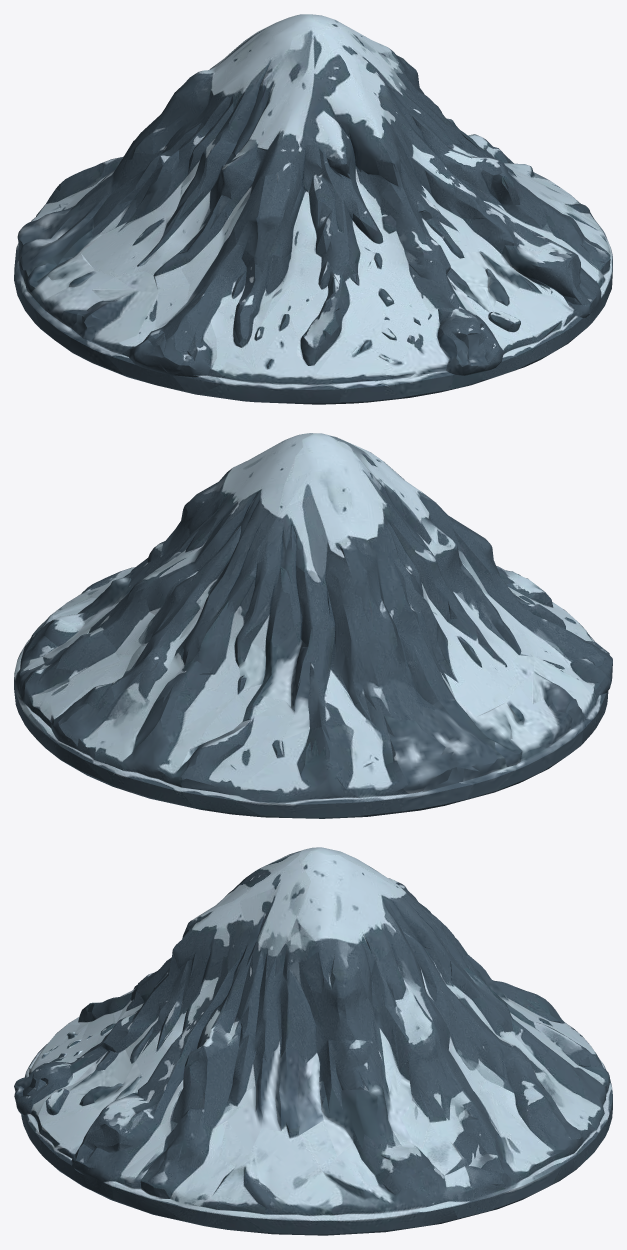
File: lm_montagna.glb
3 views of the same model, one above another, from view 1: azimuth 30°, elevation 25°; view 2: azimuth 150°, elevation 25°; view 3: azimuth 270°, elevation 25° (orthographic).
Bounding box in the file's own units: 1.89 × 0.9111 × 1.9.
1 material, 1 textured.
